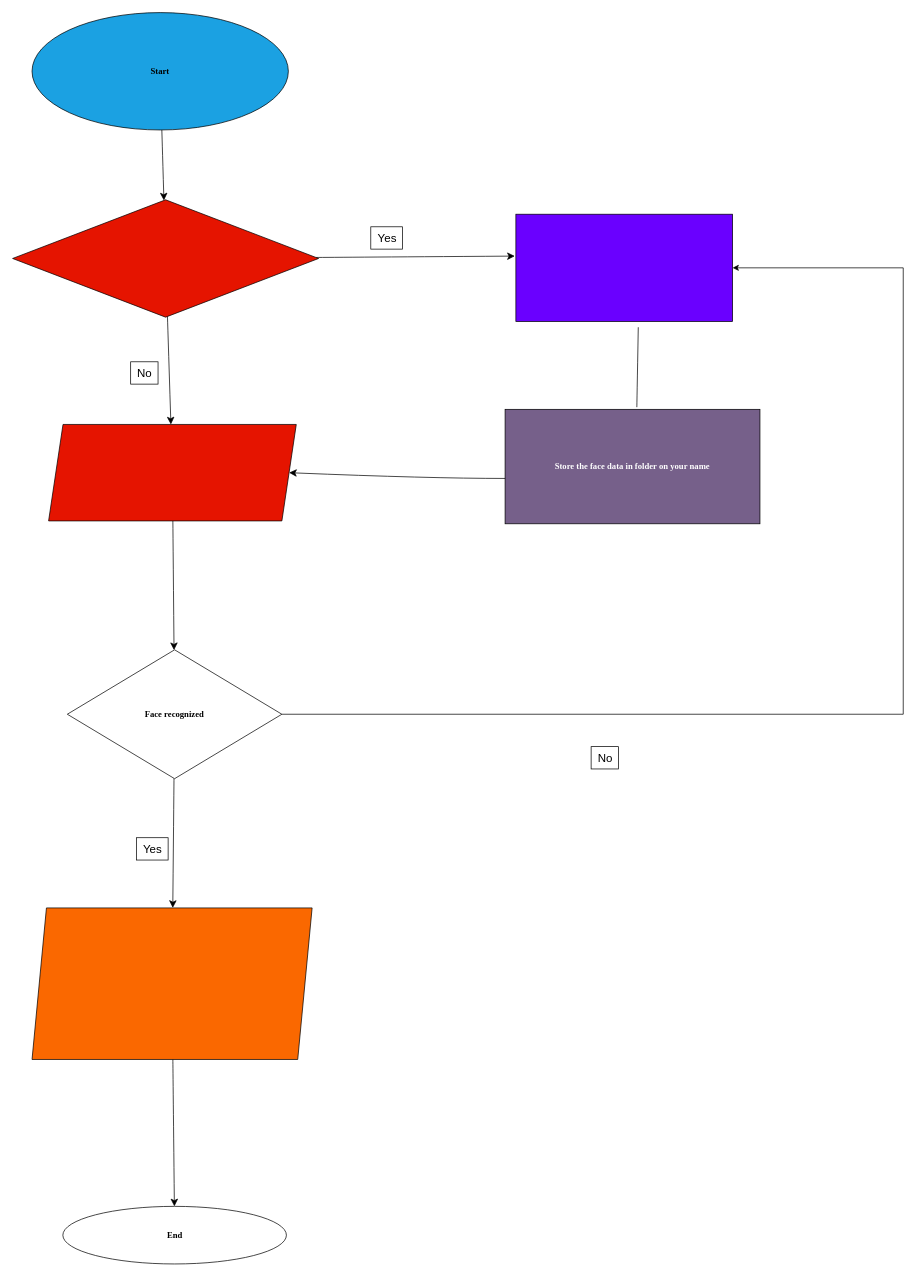
Some shapes in this 922 by 1277 pixel diagram are drawn without their labels. The shapes that lost their labels are listed below. From the top down, each one's box as (x1, y1, x2, y2) in pixels, then its label:
(12, 199, 319, 317): New User?
(515, 213, 733, 321): Give your Photograph
(48, 424, 296, 521): Recognize the face
(31, 907, 312, 1059): Stored in csv file with Registration Number & ate Time of Entry
